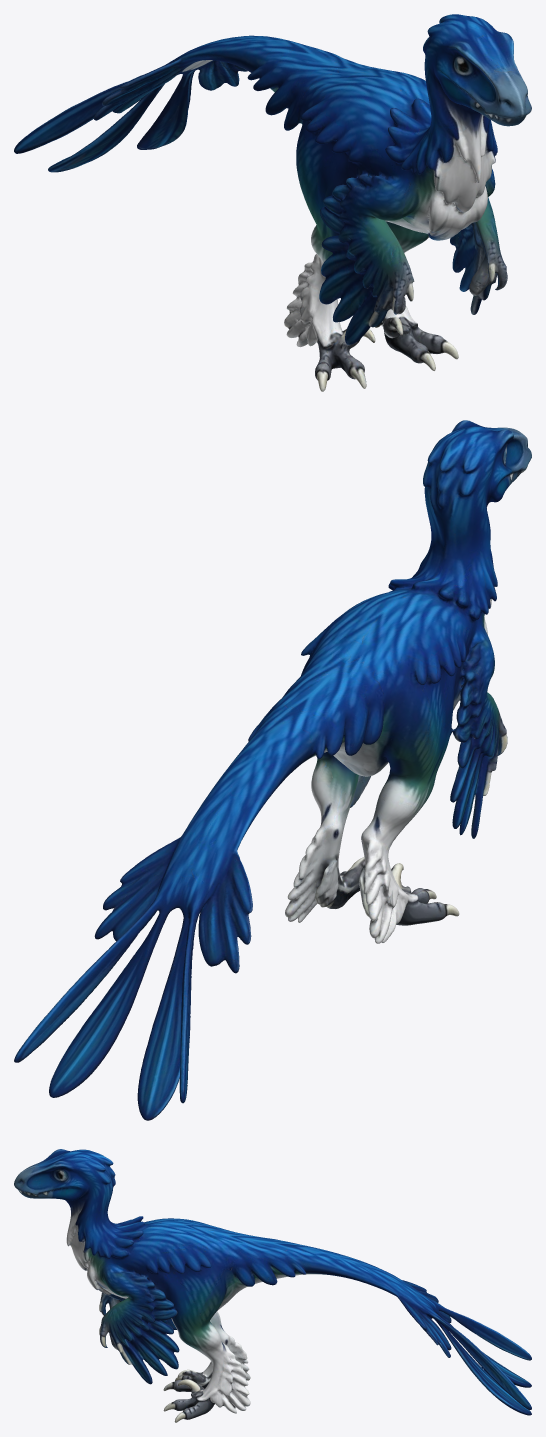
Rendered from W-dino.glb.
The picture shows the model from 3 angles, top to bottom: view 1: azimuth 30°, elevation 25°; view 2: azimuth 150°, elevation 25°; view 3: azimuth 270°, elevation 25°; orthographic projection. The views are drawn at different scales.
Bounding box in the file's own units: 0.4391 × 1.01 × 1.9.
Materials: 1 (1 with a texture image).
